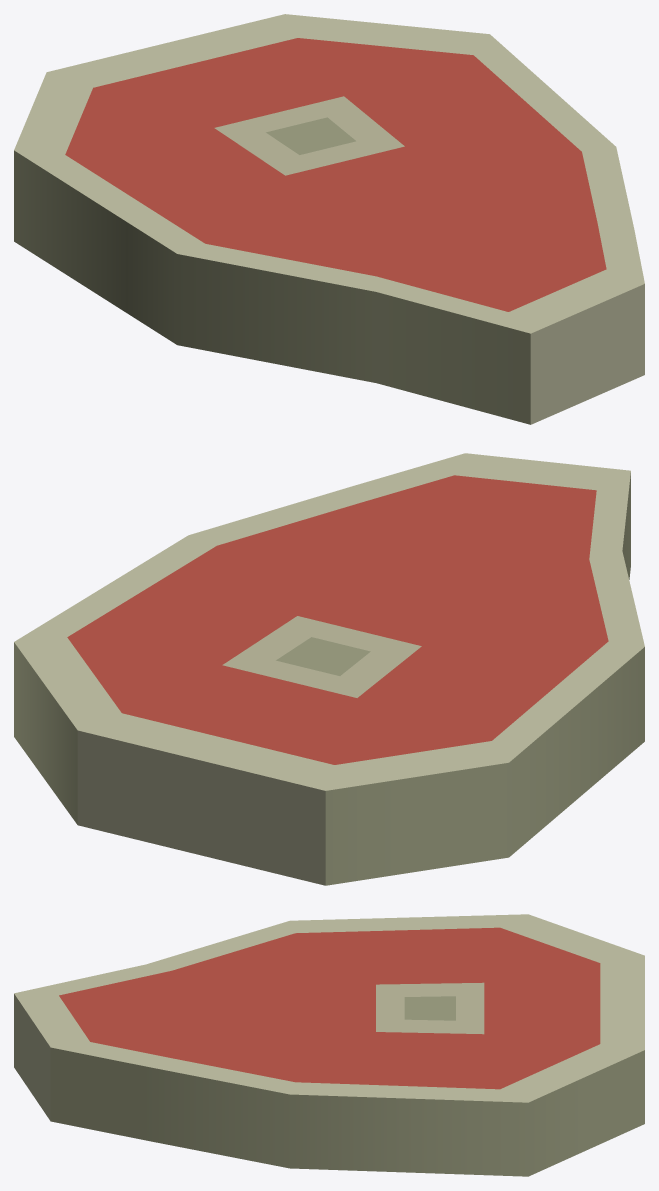
File: Steak.fbx
The picture shows the model from 3 angles, top to bottom: view 1: azimuth 30°, elevation 25°; view 2: azimuth 150°, elevation 25°; view 3: azimuth 270°, elevation 25°; orthographic projection. The views are drawn at different scales.
Visible parts, largest first — view 1: Steak; view 2: Steak; view 3: Steak.
Part boxes in pixels (left/top/right/bottom): Steak: left=14, top=14, right=644, bottom=424; Steak: left=14, top=453, right=644, bottom=885; Steak: left=14, top=914, right=644, bottom=1176.
Bounding box in the file's own units: 4.67 × 0.8559 × 6.62.
